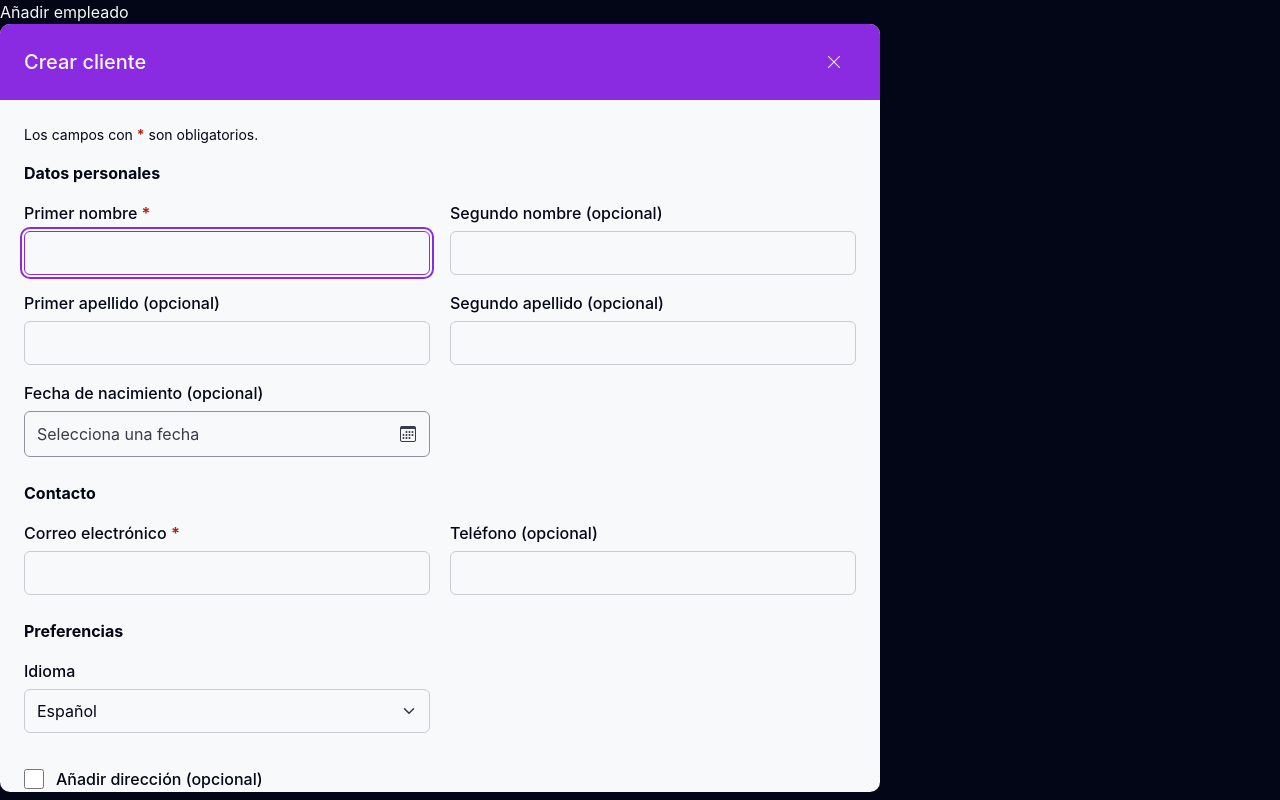
Test case: client form › blocks an enabled address when catalogs are unavailable: {"provinces":[]}
The image size is (1280, 800).
Type "Ana" into the field named "firstName" at (227, 253), box [24,231,430,275]
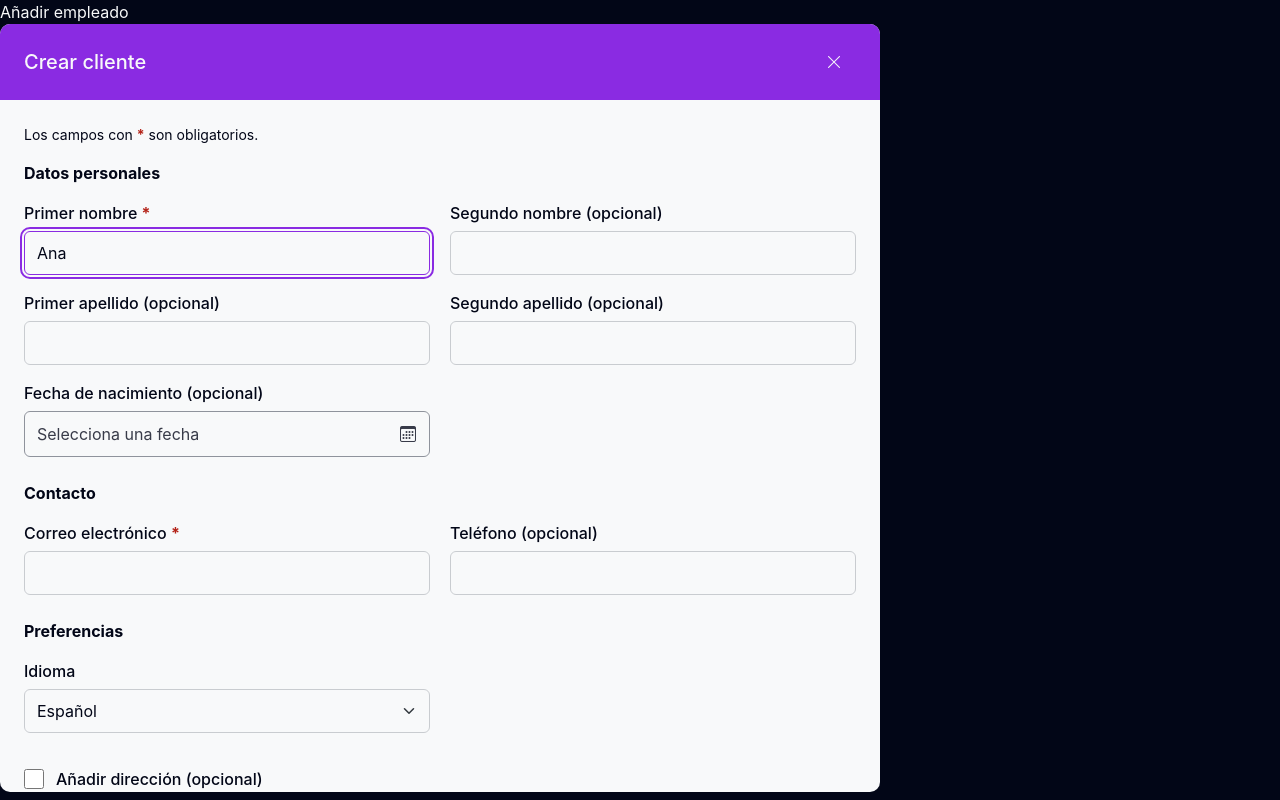
Type "ana@example.com" into the field named "email" at (227, 573), box [24,551,430,595]
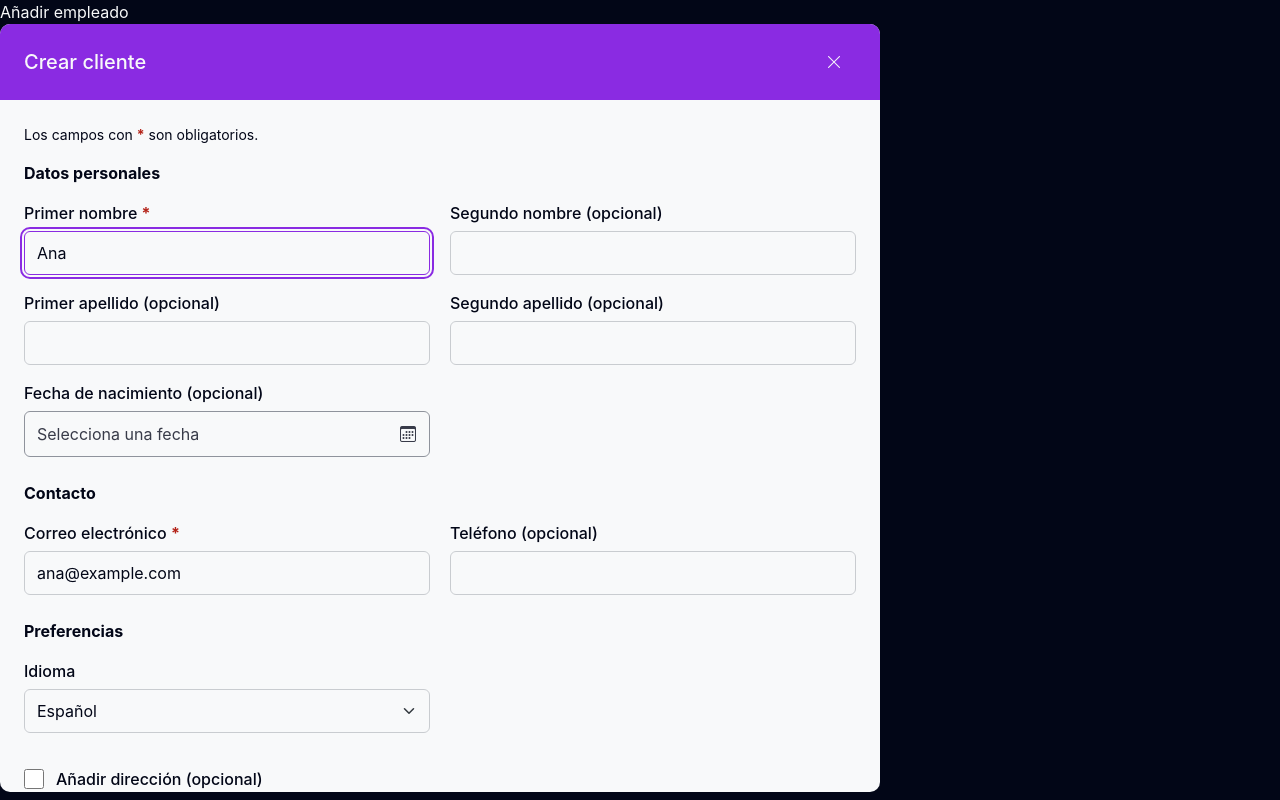
Click the checkbox labelled "Añadir dirección (opcional)" at (34, 779), box [24,769,44,789]
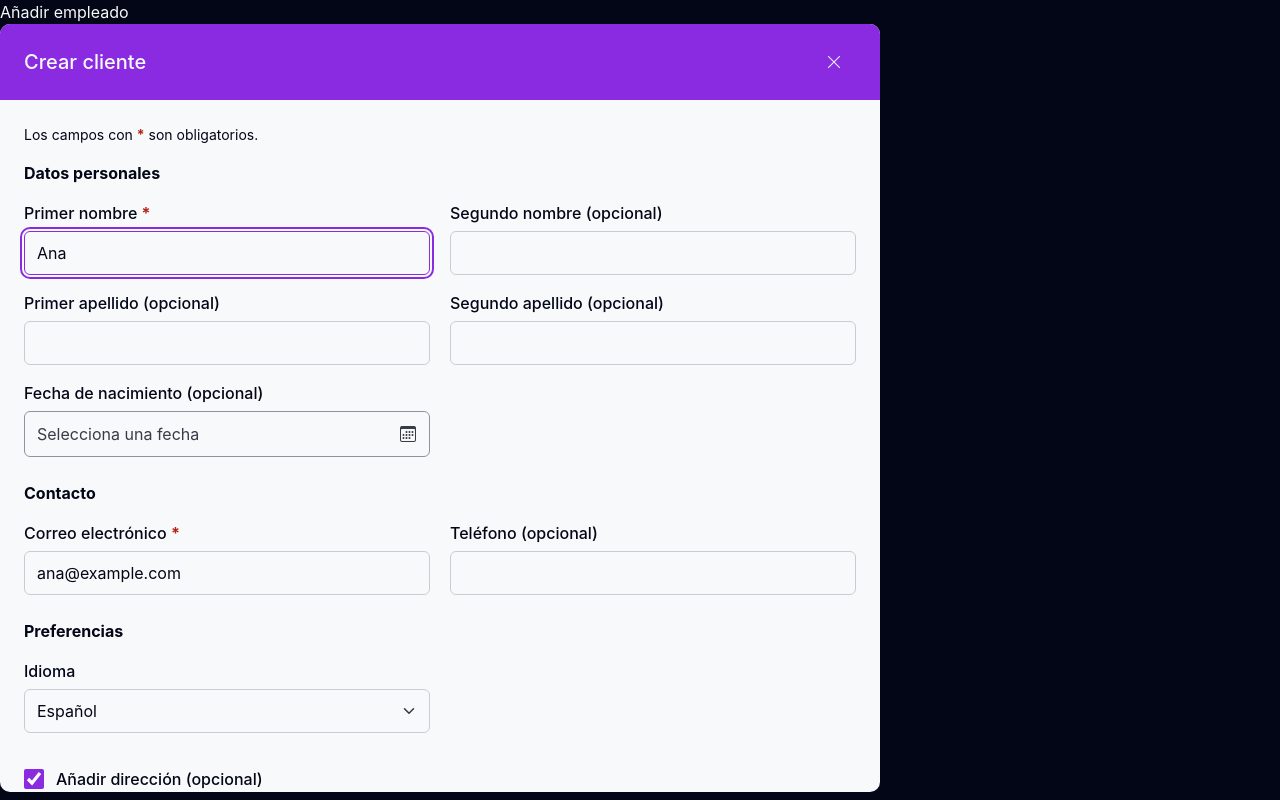
Submit the form, box [0,100,880,792]
Click the checkbox labelled "Añadir dirección (opcional)" at (34, 779), box [24,769,44,789]
(page scrolled)
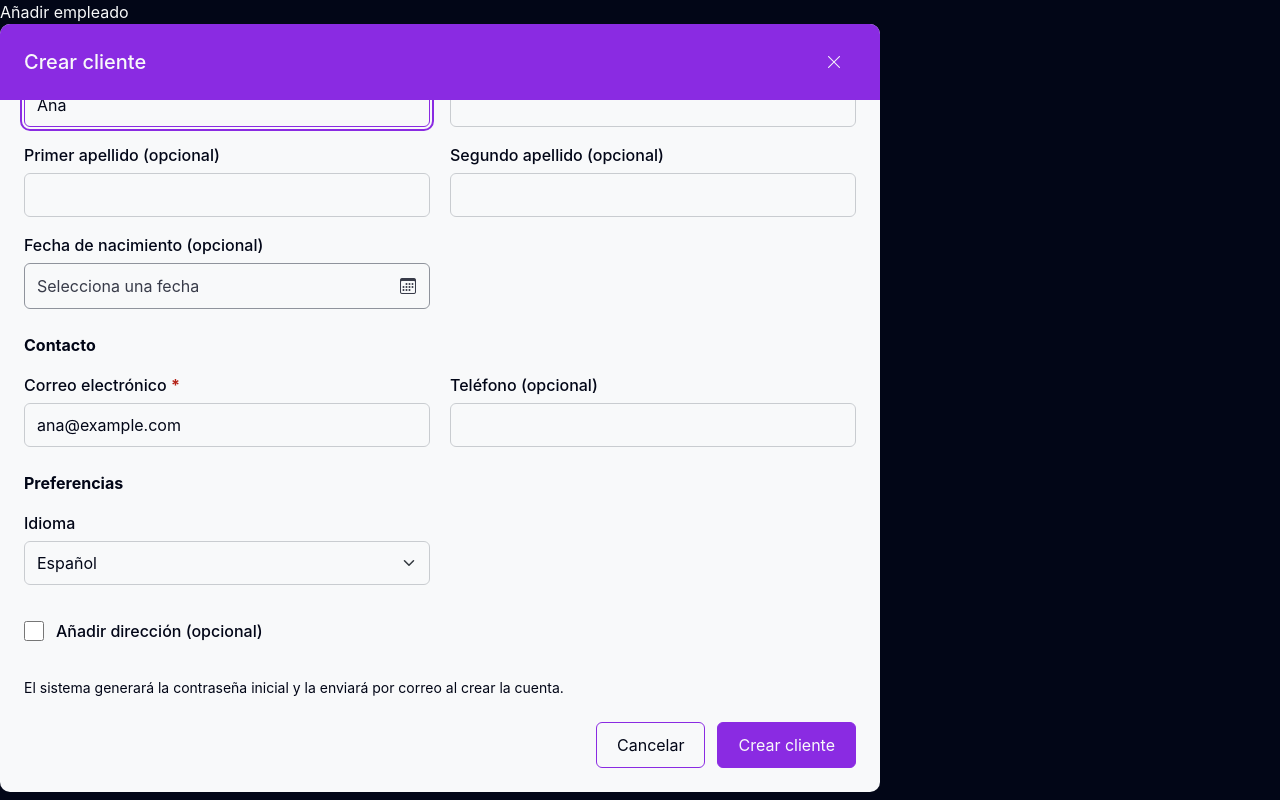
expect the button with class "create-button" is enabled: met, box [718,722,856,768]
